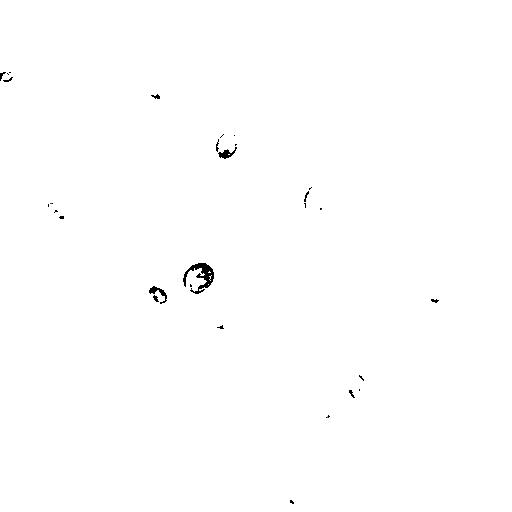micro-algae: (20, 147, 95, 217), (100, 157, 146, 201), (485, 81, 512, 143), (411, 284, 452, 314), (181, 261, 217, 295), (309, 359, 338, 397), (41, 198, 76, 227), (302, 182, 331, 217), (214, 129, 240, 162), (485, 343, 511, 375), (344, 369, 367, 404), (281, 479, 305, 503), (146, 283, 171, 304), (227, 227, 242, 245), (0, 67, 15, 83)
